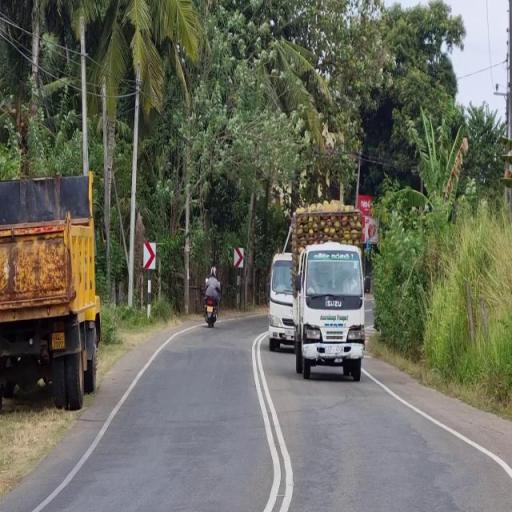double_white_line: (250, 326, 294, 512), (0, 11, 34, 64)
